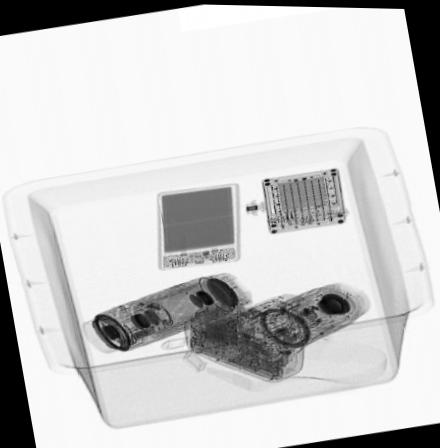Powerbank: (151, 180, 241, 270)
